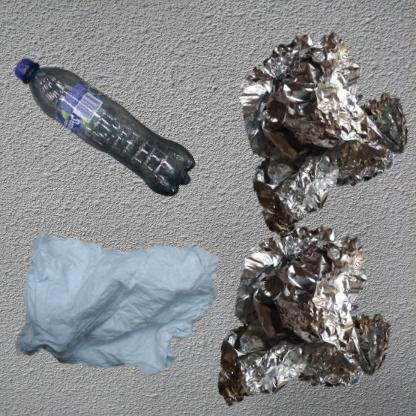aluminio: (213, 10, 416, 259), (213, 213, 407, 416)
botella: (10, 10, 250, 296)
papel: (10, 213, 239, 401)
